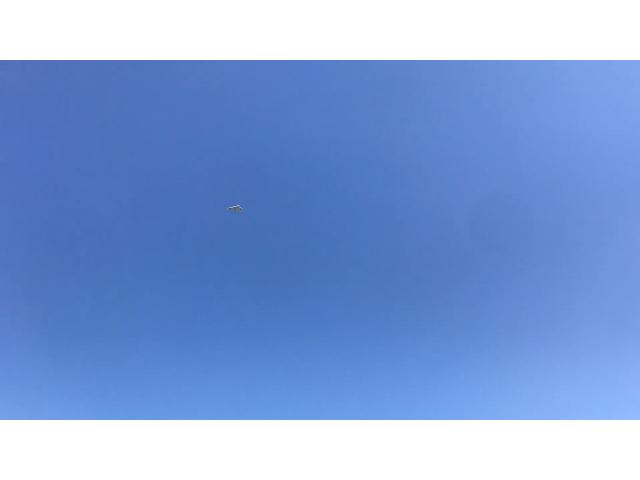Anti-Drone: (226, 203, 244, 214)
